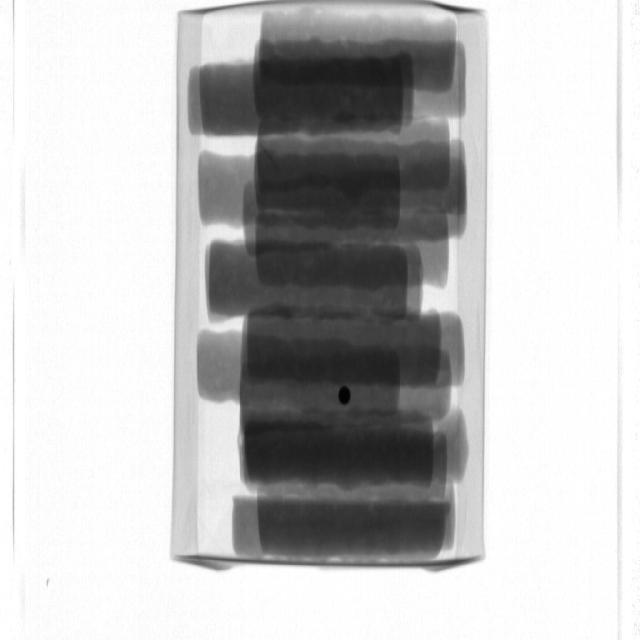ym: (339, 386, 352, 405)
